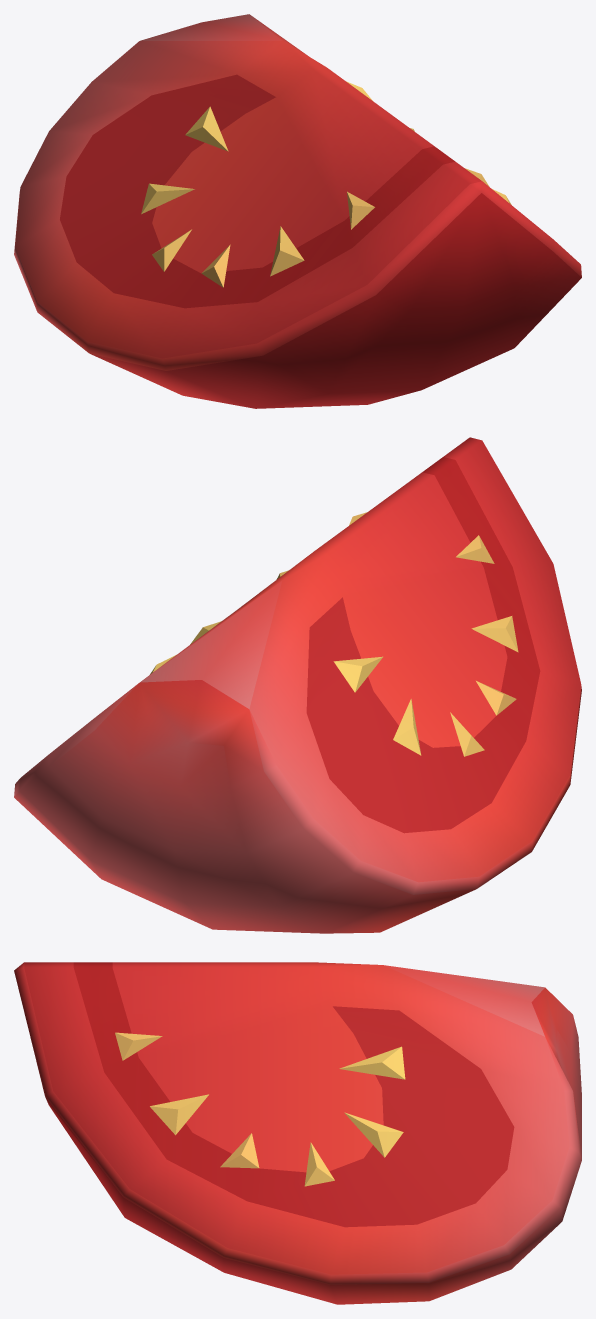
File: tomato_003.fbx
3 renders of one model, top to bottom at view 1: azimuth 30°, elevation 25°; view 2: azimuth 150°, elevation 25°; view 3: azimuth 270°, elevation 25°, orthographic. The views are drawn at different scales.
Visible parts, largest first — view 1: tomato_003; view 2: tomato_003; view 3: tomato_003.
Part boxes in pixels (<box>): tomato_003: <box>14,14,581,408</box>; tomato_003: <box>14,437,581,933</box>; tomato_003: <box>14,962,581,1304</box>.
Size of the model in its own units: 5.59 by 6.68 by 3.99.
